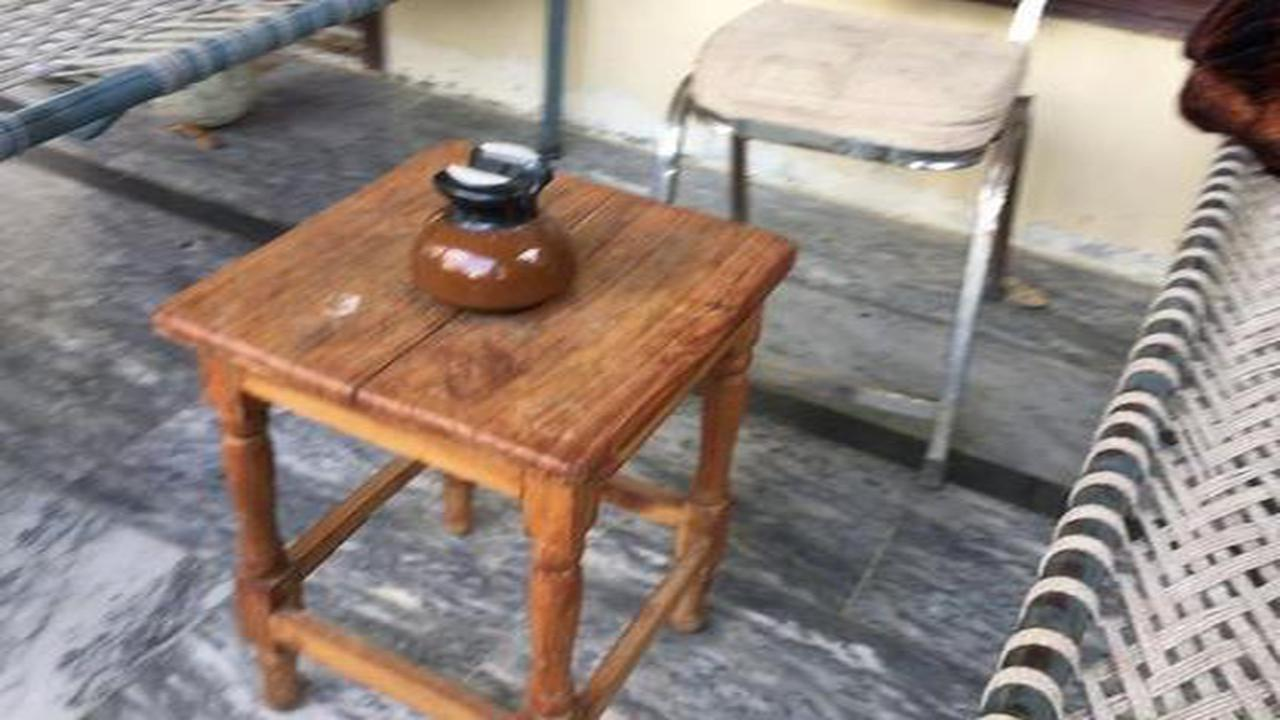insulator_pin: (385, 118, 604, 326)
